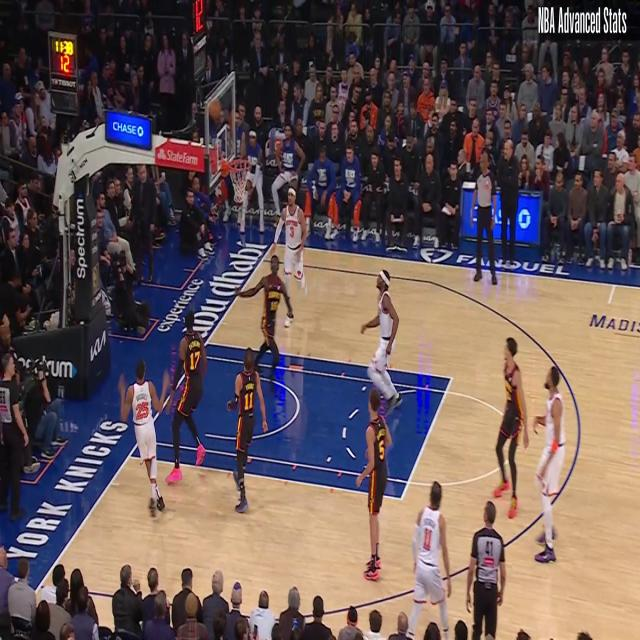ball: (206, 95, 223, 117), (209, 99, 221, 121)
judge: (468, 499, 507, 638), (0, 353, 32, 518), (470, 145, 499, 282)
player: (355, 386, 397, 581), (119, 358, 170, 514), (404, 479, 451, 636), (165, 313, 207, 486), (235, 259, 292, 386), (228, 346, 268, 513), (531, 365, 565, 560), (356, 394, 390, 588), (493, 339, 528, 519), (362, 275, 402, 416), (275, 196, 309, 312)
